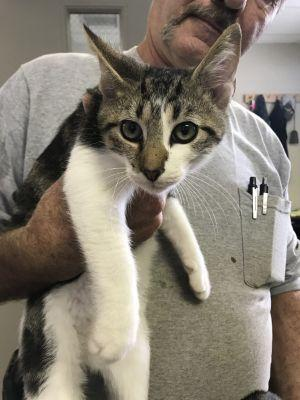bengal: (75, 9, 247, 197)
